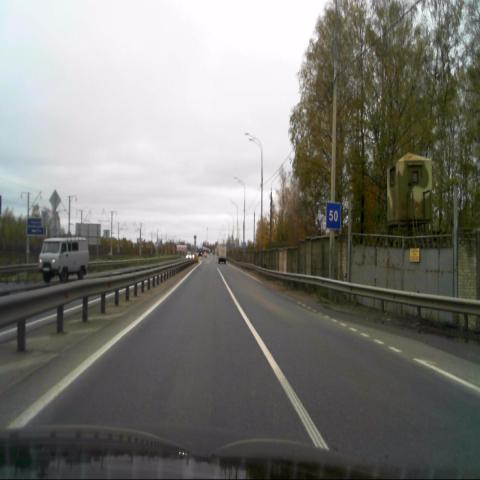6_2: (326, 203, 340, 228)
